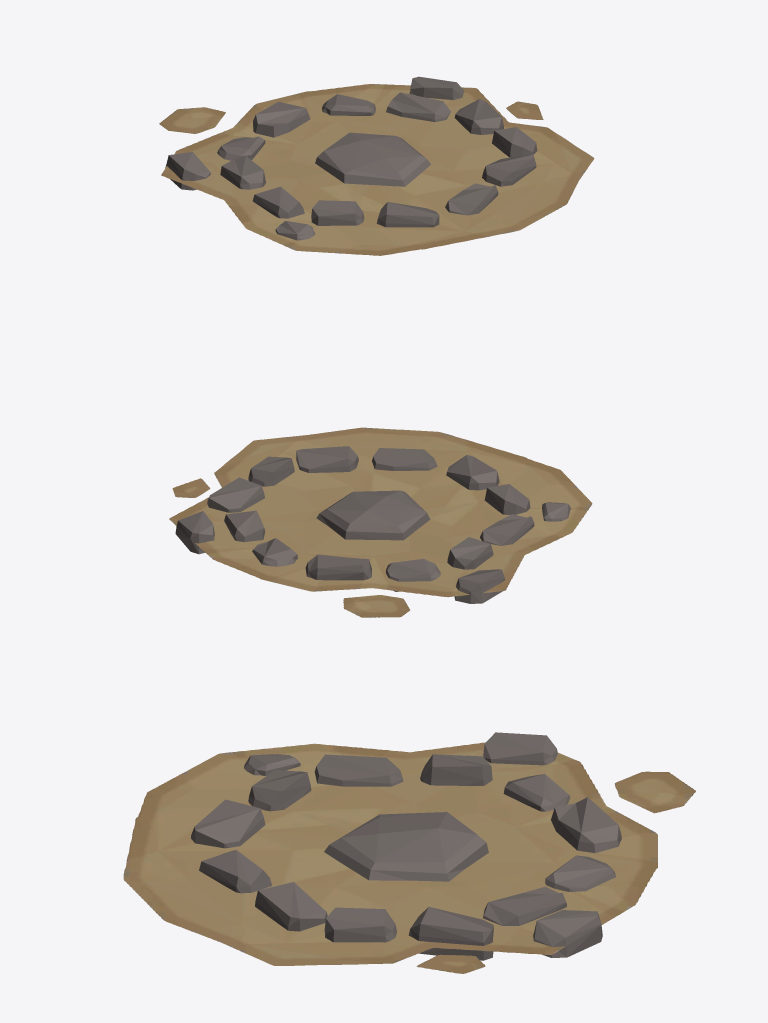
Rendered from stoneCircle.fbx.
3 renders of one model, top to bottom at view 1: azimuth 30°, elevation 25°; view 2: azimuth 150°, elevation 25°; view 3: azimuth 270°, elevation 25°, orthographic. The views are drawn at different scales.
Visible parts, largest first — view 1: groundDecal, stoneCircle; view 2: groundDecal, stoneCircle; view 3: groundDecal, stoneCircle.
Boxes of the visible parts, <box> form: groundDecal: <box>159,84,594,255</box>; stoneCircle: <box>165,76,537,240</box>; groundDecal: <box>169,427,592,617</box>; stoneCircle: <box>175,446,570,603</box>; groundDecal: <box>123,742,695,973</box>; stoneCircle: <box>191,732,621,960</box>.
Size of the model in its own units: 4 by 0.2257 by 4.
